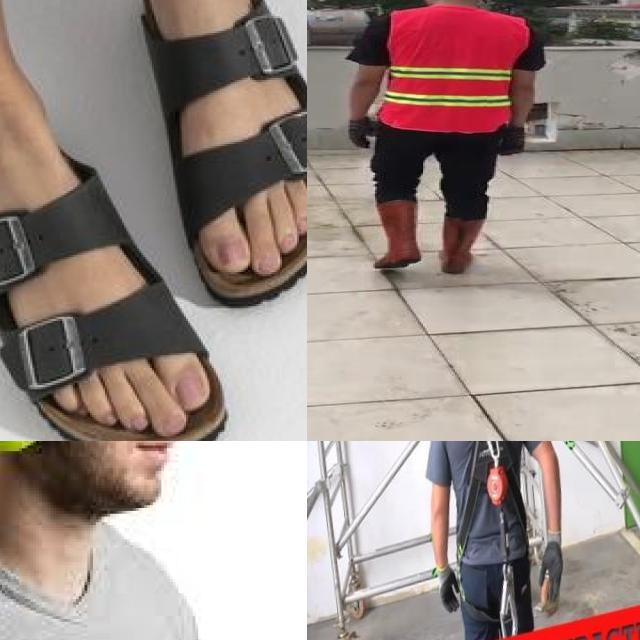Harness: (458, 441, 528, 562)
Sandals: (0, 98, 228, 441), (135, 0, 307, 298)
boots: (370, 201, 421, 268), (438, 212, 483, 275)
hand_glove: (347, 116, 375, 150), (494, 127, 528, 155)
person: (337, 0, 549, 277)
vest: (384, 7, 530, 131)
